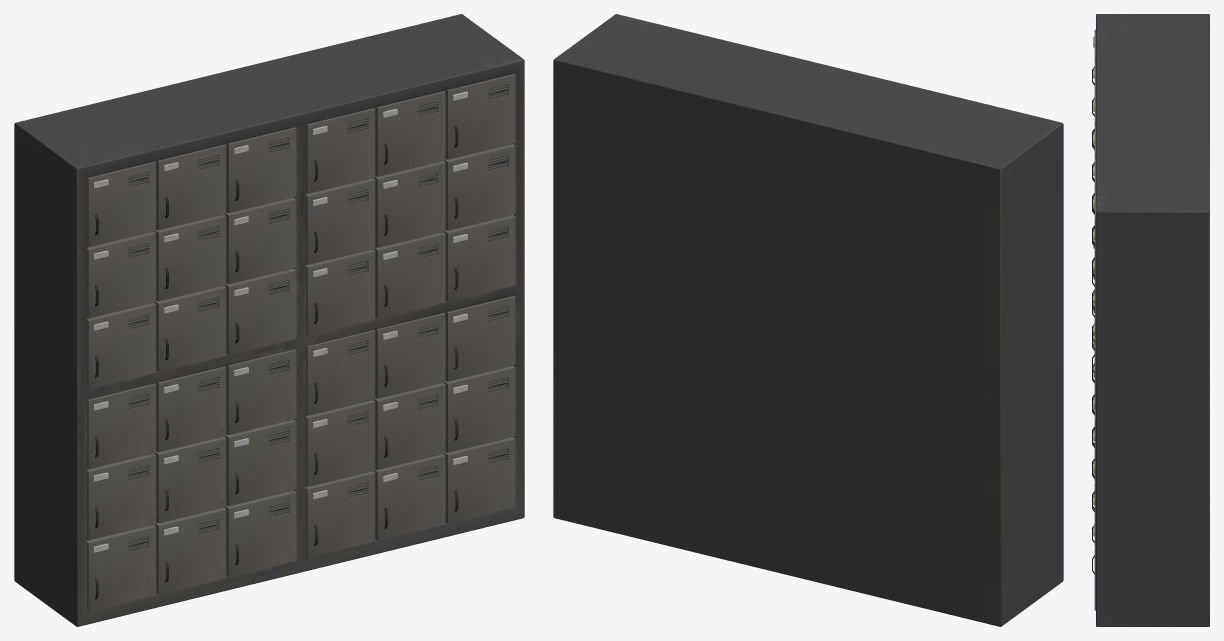
Rendered from school_locker_for_anime_schools-opt.glb.
The picture shows the model from 3 angles, left to right: view 1: azimuth 30°, elevation 25°; view 2: azimuth 150°, elevation 25°; view 3: azimuth 270°, elevation 25°; orthographic projection. The views are drawn at different scales.
Visible parts, largest first — view 1: Plane.038_Material.012_0, Plane.039_Material.021_0; view 2: Plane.038_Material.012_0; view 3: Plane.038_Material.012_0.
Boxes of the visible parts, <box> form: Plane.038_Material.012_0: <box>14,14,524,626</box>; Plane.039_Material.021_0: <box>128,102,446,550</box>; Plane.038_Material.012_0: <box>553,14,1063,626</box>; Plane.038_Material.012_0: <box>1092,14,1209,626</box>.
Size of the model in its own units: 2.03 by 1.99 by 0.5116.
Materials: 2 (1 with a texture image).
